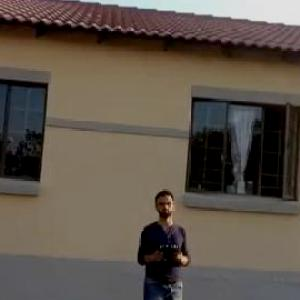follow: (130, 180, 192, 299)
